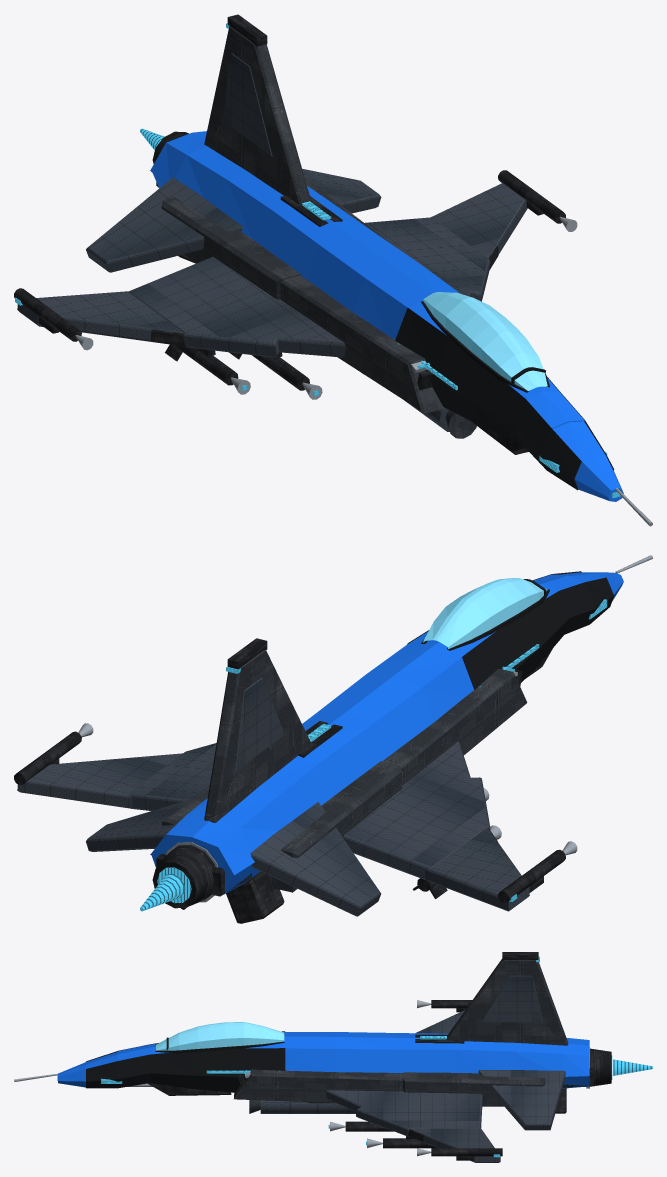
The model's file is shrike-attack-jet.glb.
The picture shows the model from 3 angles, top to bottom: view 1: azimuth 30°, elevation 25°; view 2: azimuth 150°, elevation 25°; view 3: azimuth 270°, elevation 25°; orthographic projection. The views are drawn at different scales.
Visible parts, largest first — view 1: centre_pod, hull, intake_r_scoop, canopy_sill_r, intake_r_mouth, canopy_glass, intake_r_lip, fmt_strip_r; view 2: centre_pod, hull, intake_r_scoop, intake_r_mouth, canopy_sill_r, canopy_glass, fmt_strip_r, intake_r_lip; view 3: centre_pod, hull, intake_r_scoop, canopy_sill_r, intake_r_mouth, canopy_glass, fmt_strip_r, intake_r_lip.
Part boxes in pixels (<box>): centre_pod: <box>17,53,527,431</box>; hull: <box>150,131,623,501</box>; intake_r_scoop: <box>161,26,476,438</box>; canopy_sill_r: <box>395,301,614,490</box>; intake_r_mouth: <box>14,14,565,454</box>; canopy_glass: <box>423,292,547,390</box>; intake_r_lip: <box>75,216,652,526</box>; fmt_strip_r: <box>15,23,620,498</box>; centre_pod: <box>17,677,529,916</box>; hull: <box>150,572,623,894</box>; intake_r_scoop: <box>161,649,527,892</box>; intake_r_mouth: <box>14,638,565,923</box>; canopy_sill_r: <box>407,571,613,689</box>; canopy_glass: <box>423,578,547,649</box>; fmt_strip_r: <box>140,599,607,911</box>; intake_r_lip: <box>78,555,652,902</box>; centre_pod: <box>260,975,565,1162</box>; hull: <box>58,1032,589,1088</box>; intake_r_scoop: <box>234,959,568,1113</box>; canopy_sill_r: <box>86,1031,285,1092</box>; intake_r_mouth: <box>147,952,611,1160</box>; canopy_glass: <box>156,1022,284,1050</box>; fmt_strip_r: <box>57,956,652,1157</box>; intake_r_lip: <box>14,1000,589,1156</box>.
Size of the model in its own units: 7.33 by 3.6 by 13.02.
8 materials, 5 textured.
